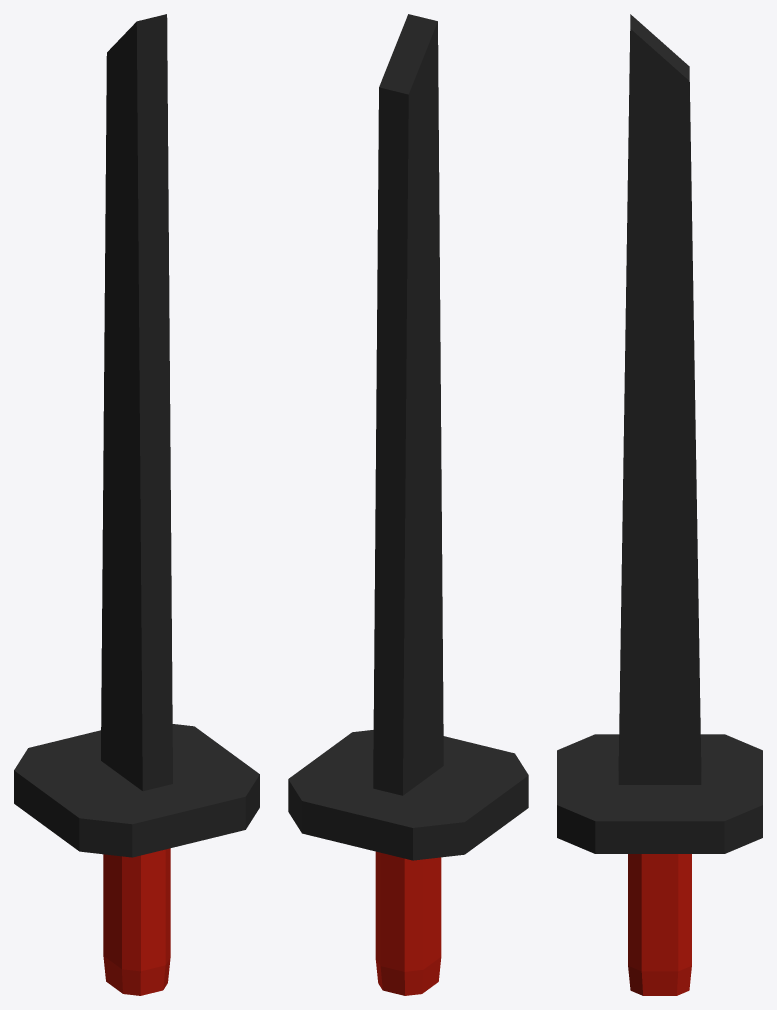
The model's file is Sword.obj.
3 renders of one model, left to right at view 1: azimuth 30°, elevation 25°; view 2: azimuth 150°, elevation 25°; view 3: azimuth 270°, elevation 25°, orthographic. The views are drawn at different scales.
Parts seen in each view (by area): view 1: Sword; view 2: Sword; view 3: Sword.
Part boxes in pixels (x1,y1,x2,y2): Sword: (14, 14, 259, 995); Sword: (288, 14, 528, 995); Sword: (557, 14, 762, 995).
Size of the model in its own units: 1.9 by 9.82 by 1.9.
